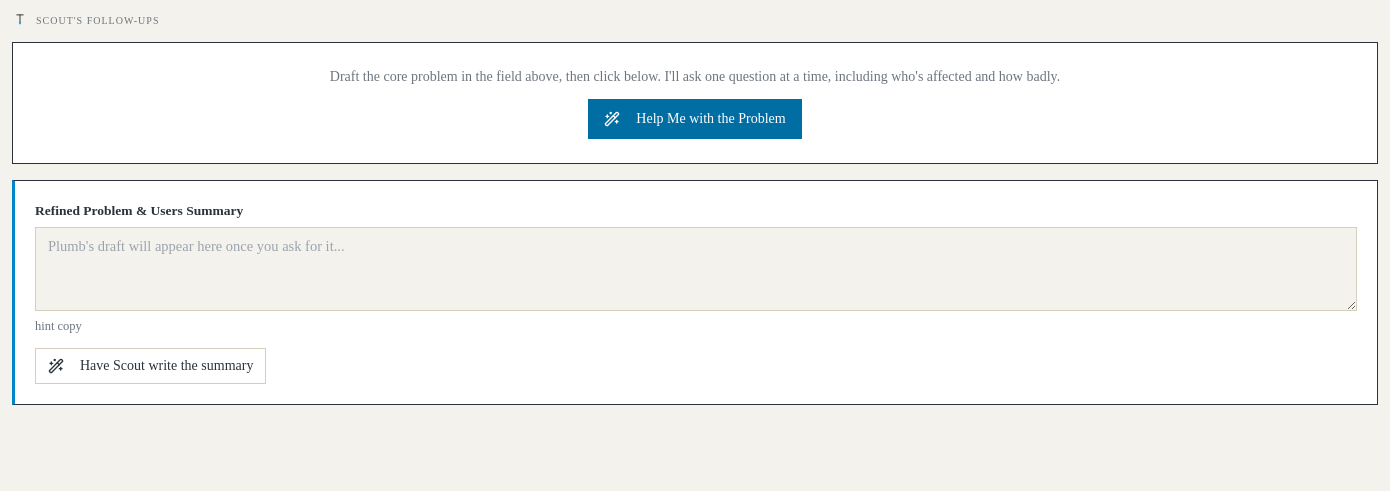
AIdChatPanel — Plumb inline thread (RD-2) › shows the drafted summary with Apply/Edit actions and highlights bracketed placeholders
The image size is (1390, 491).
Later steps or results of the test are not shown.
Click the button "Help Me with the Problem".
click(695, 119)  # box [588, 99, 802, 139]
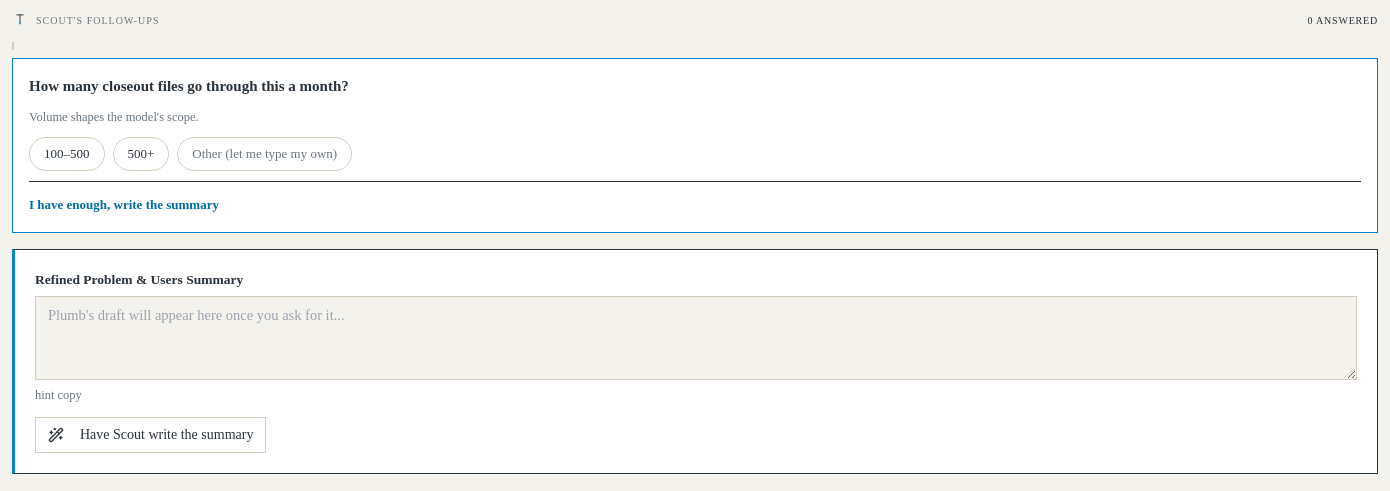
Click the button "I have enough, write the summary".
click(124, 204)  # box [29, 194, 219, 214]
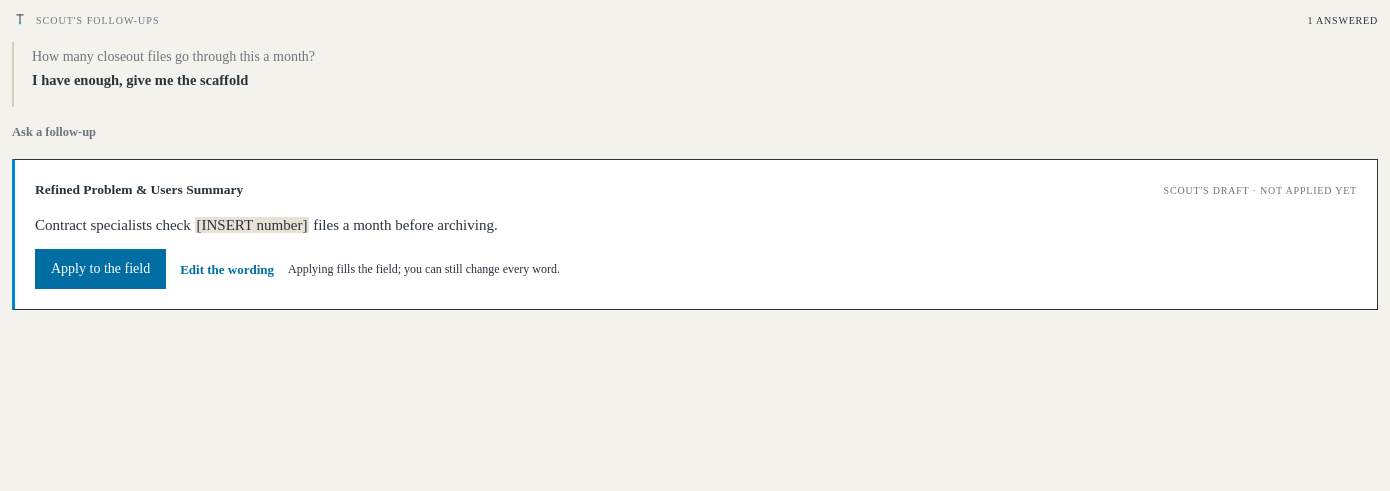
Expected: the text "draft · not applied yet" is shown, [1200, 185, 1357, 196]
Expected: the text "[INSERT number]" is shown, [194, 217, 309, 233]
